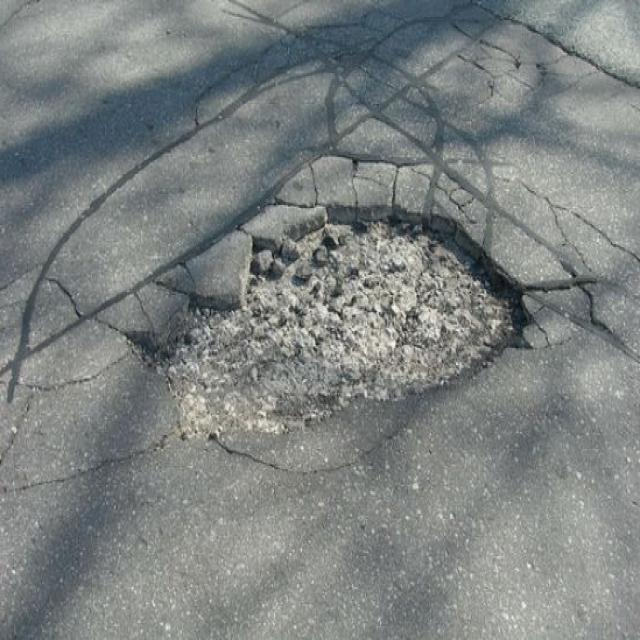pothole: (134, 199, 534, 447)
